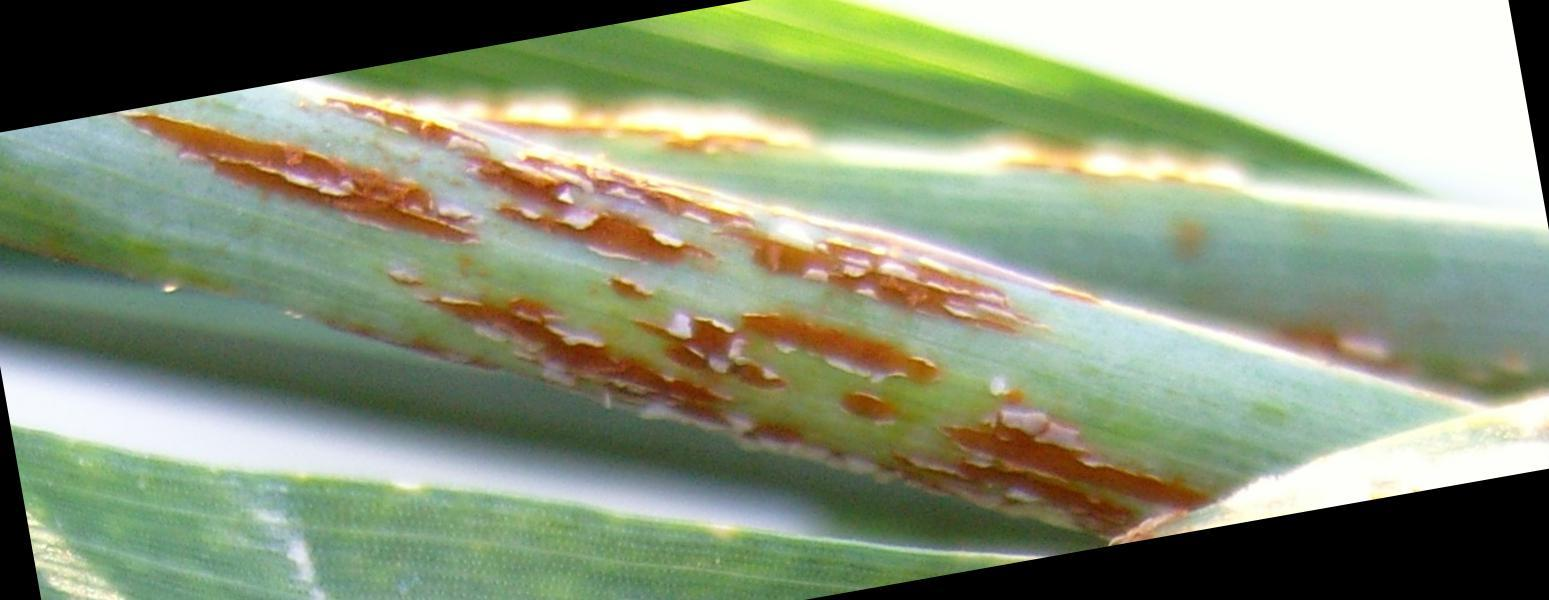Sugarcane: (87, 85, 1258, 538)
